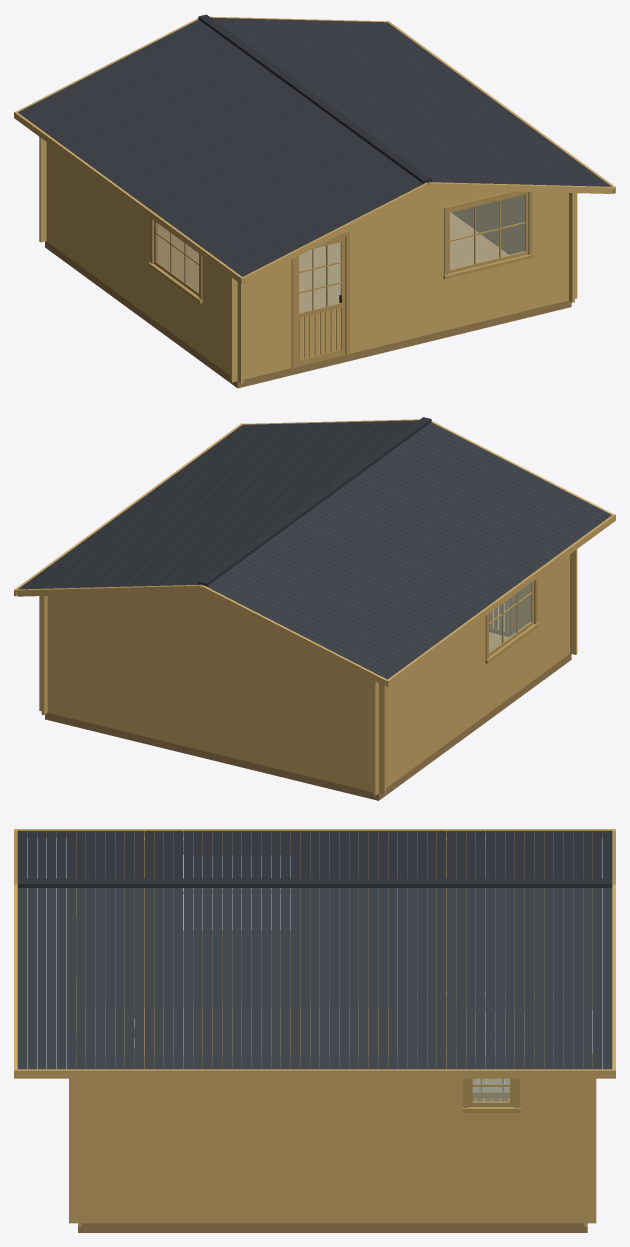
File: наина_6_6_44_мм_санузел.glb
3 views of the same model, one above another, from view 1: azimuth 30°, elevation 25°; view 2: azimuth 150°, elevation 25°; view 3: azimuth 270°, elevation 25° (orthographic). The views are drawn at different scales.
Parts seen in each view (by area): view 1: roof, walls, floor, house, object 50, object 37, object 62, object 25, object 44, object 43; view 2: roof, walls, house, object 62; view 3: roof, walls, house, floor, object 74.
Part boxes in pixels (x1,y1,x2,y2): roof: (14, 14, 615, 284); walls: (39, 137, 577, 383); floor: (157, 212, 508, 357); house: (45, 241, 571, 388); object 50: (450, 194, 524, 269); object 37: (299, 242, 340, 312); object 62: (156, 223, 198, 292); object 25: (340, 236, 345, 355); object 44: (345, 231, 349, 355); object 43: (291, 257, 295, 368); roof: (14, 417, 615, 687); walls: (39, 549, 577, 795); house: (45, 653, 571, 800); object 62: (489, 583, 531, 652); roof: (14, 829, 615, 1078); walls: (69, 839, 596, 1226); house: (78, 1009, 587, 1232); floor: (85, 1007, 524, 1101); object 74: (473, 1079, 509, 1102).
Size of the model in its own units: 6.45 by 3.03 by 6.79.
